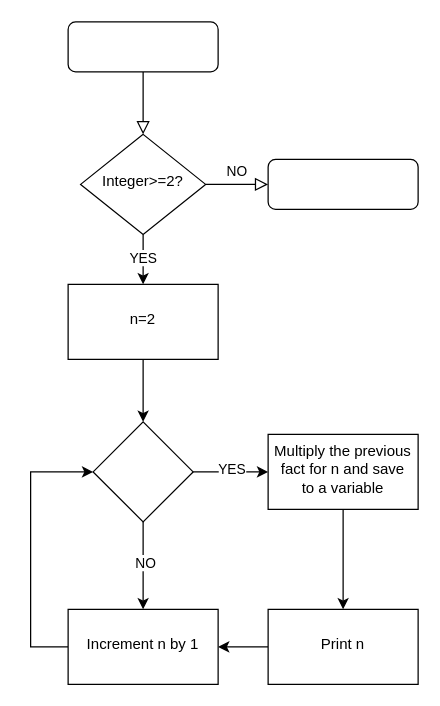
The diagram is 440 pixels wide and 706 high, and some of its shapes have lost their labels. The box of each missing label's shape, as (x1, y1, x2, y2) in pixels:
Ask the user for an integer >=2: (67, 21, 218, 72)
Integer divisible by n?: (92, 421, 193, 522)
Print error message: (267, 158, 418, 209)
